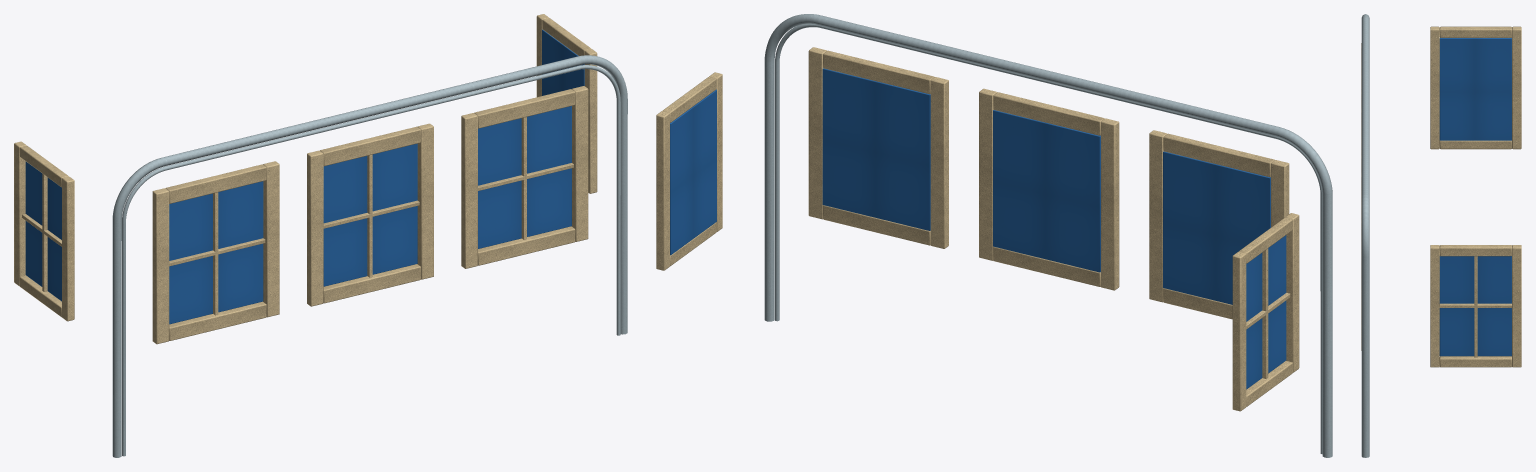
File: 6-upright-tin-band-3-2.fbx
3 renders of one model, left to right at view 1: azimuth 30°, elevation 25°; view 2: azimuth 150°, elevation 25°; view 3: azimuth 270°, elevation 25°, orthographic. The views are drawn at different scales.
Visible parts, largest first — view 1: upright-tin-band-3-2; view 2: upright-tin-band-3-2; view 3: upright-tin-band-3-2.
Part boxes in pixels (left/top/right/bottom): upright-tin-band-3-2: left=14, top=14, right=627, bottom=457; upright-tin-band-3-2: left=656, top=14, right=1332, bottom=457; upright-tin-band-3-2: left=1361, top=14, right=1521, bottom=457.
Size of the model in its own units: 10310 by 5333 by 3155.
1 material, 1 textured.
